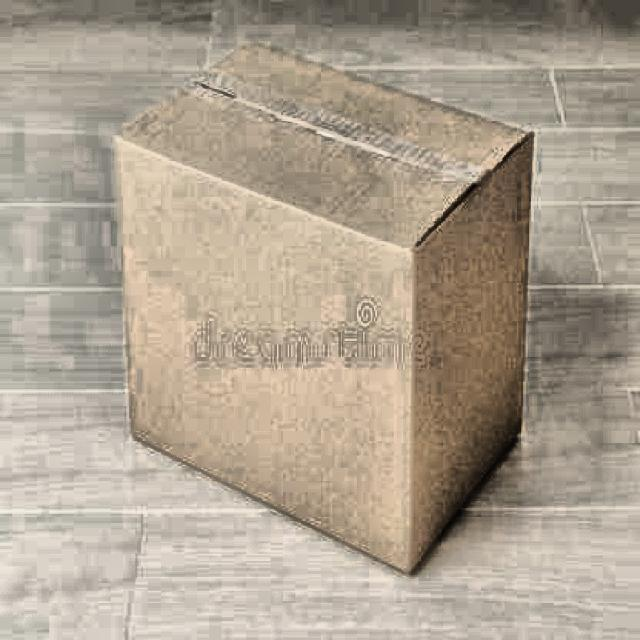Cardbox: (84, 32, 548, 582)
